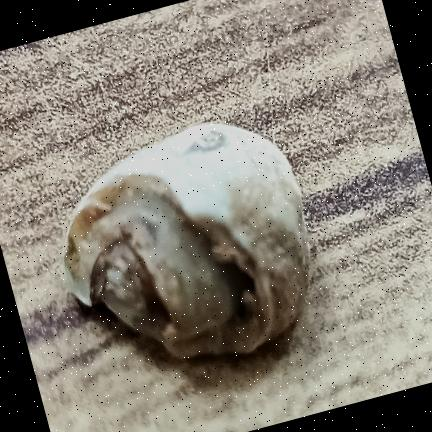broken: (64, 122, 309, 358)
